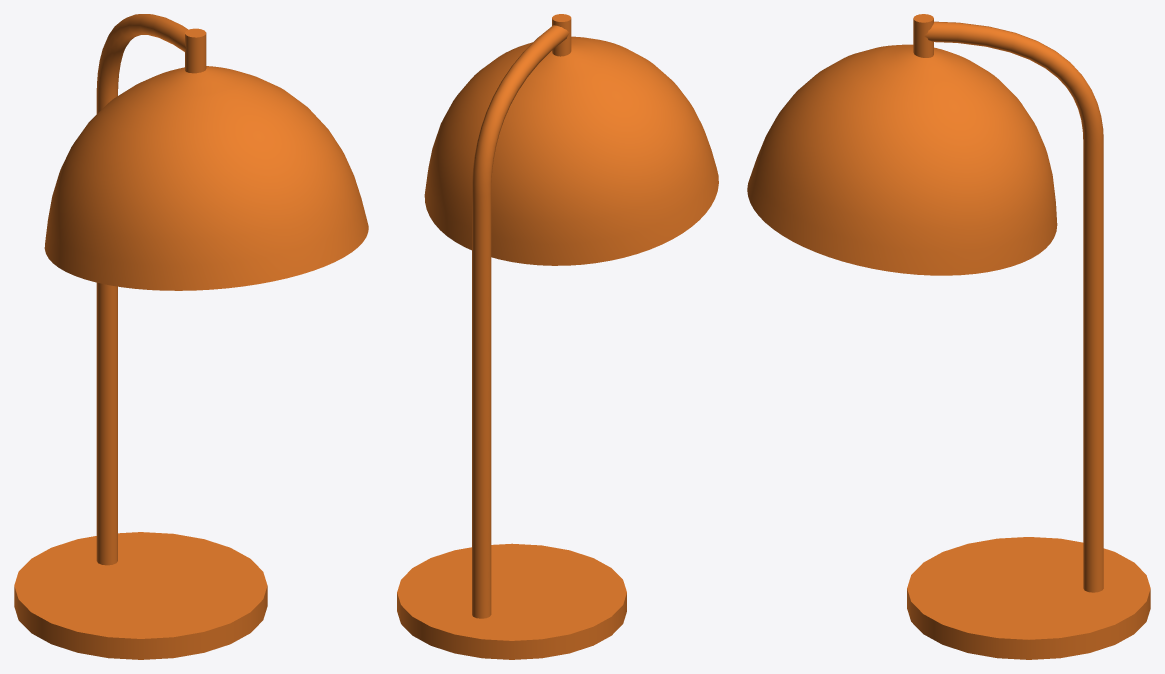
The model's file is Lampa.glb.
3 views of the same model, side by side, from view 1: azimuth 30°, elevation 25°; view 2: azimuth 150°, elevation 25°; view 3: azimuth 270°, elevation 25° (orthographic). The views are drawn at different scales.
Parts seen in each view (by area): view 1: Base; view 2: Base; view 3: Base.
Boxes of the visible parts, box(x1,y1,x2,y2) form: Base: box(14, 14, 368, 659); Base: box(397, 14, 718, 659); Base: box(747, 14, 1150, 659).
Size of what is drawn, in the model's own units: 2.13 by 4.44 by 2.75.
